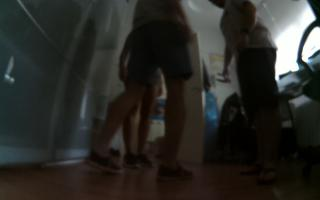person: (80, 1, 197, 188), (200, 1, 302, 192), (117, 55, 164, 171)
